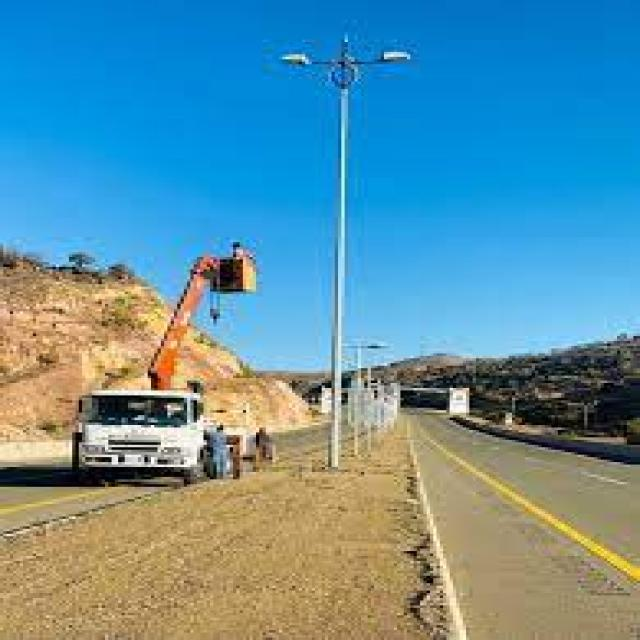Street Light: (282, 47, 410, 462)
